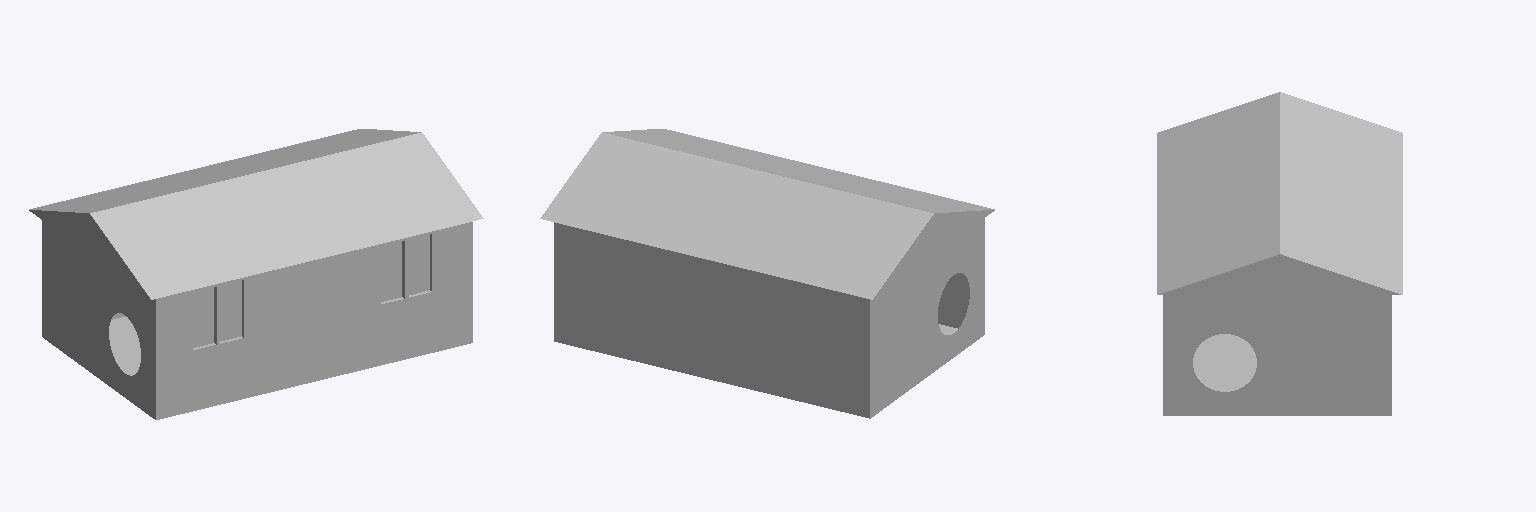
File: pump_station_filters.obj
3 renders of one model, left to right at view 1: azimuth 30°, elevation 25°; view 2: azimuth 150°, elevation 25°; view 3: azimuth 270°, elevation 25°, orthographic.
Parts seen in each view (by area): view 1: obj1; view 2: obj1; view 3: obj1.
Part boxes in pixels (left/top/right/bottom): obj1: left=29, top=129, right=483, bottom=419; obj1: left=540, top=129, right=994, bottom=418; obj1: left=1157, top=92, right=1402, bottom=415.
Bounding box in the file's own units: 4.2 × 2.01 × 2.7.